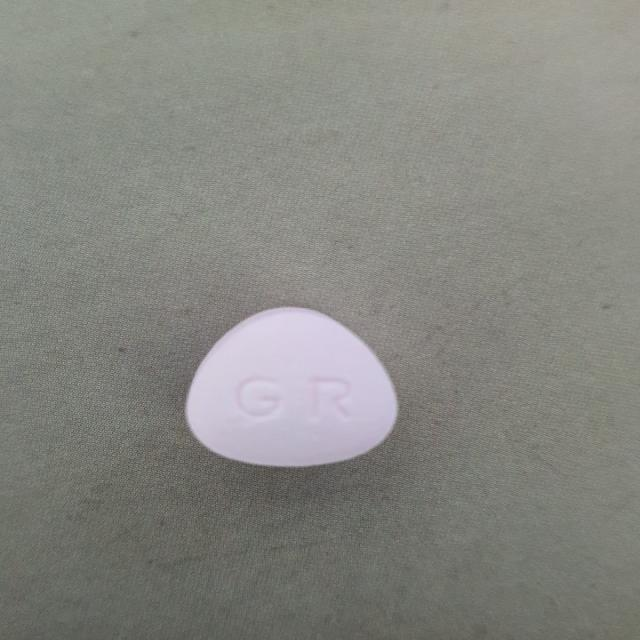pill: (168, 292, 412, 477)
